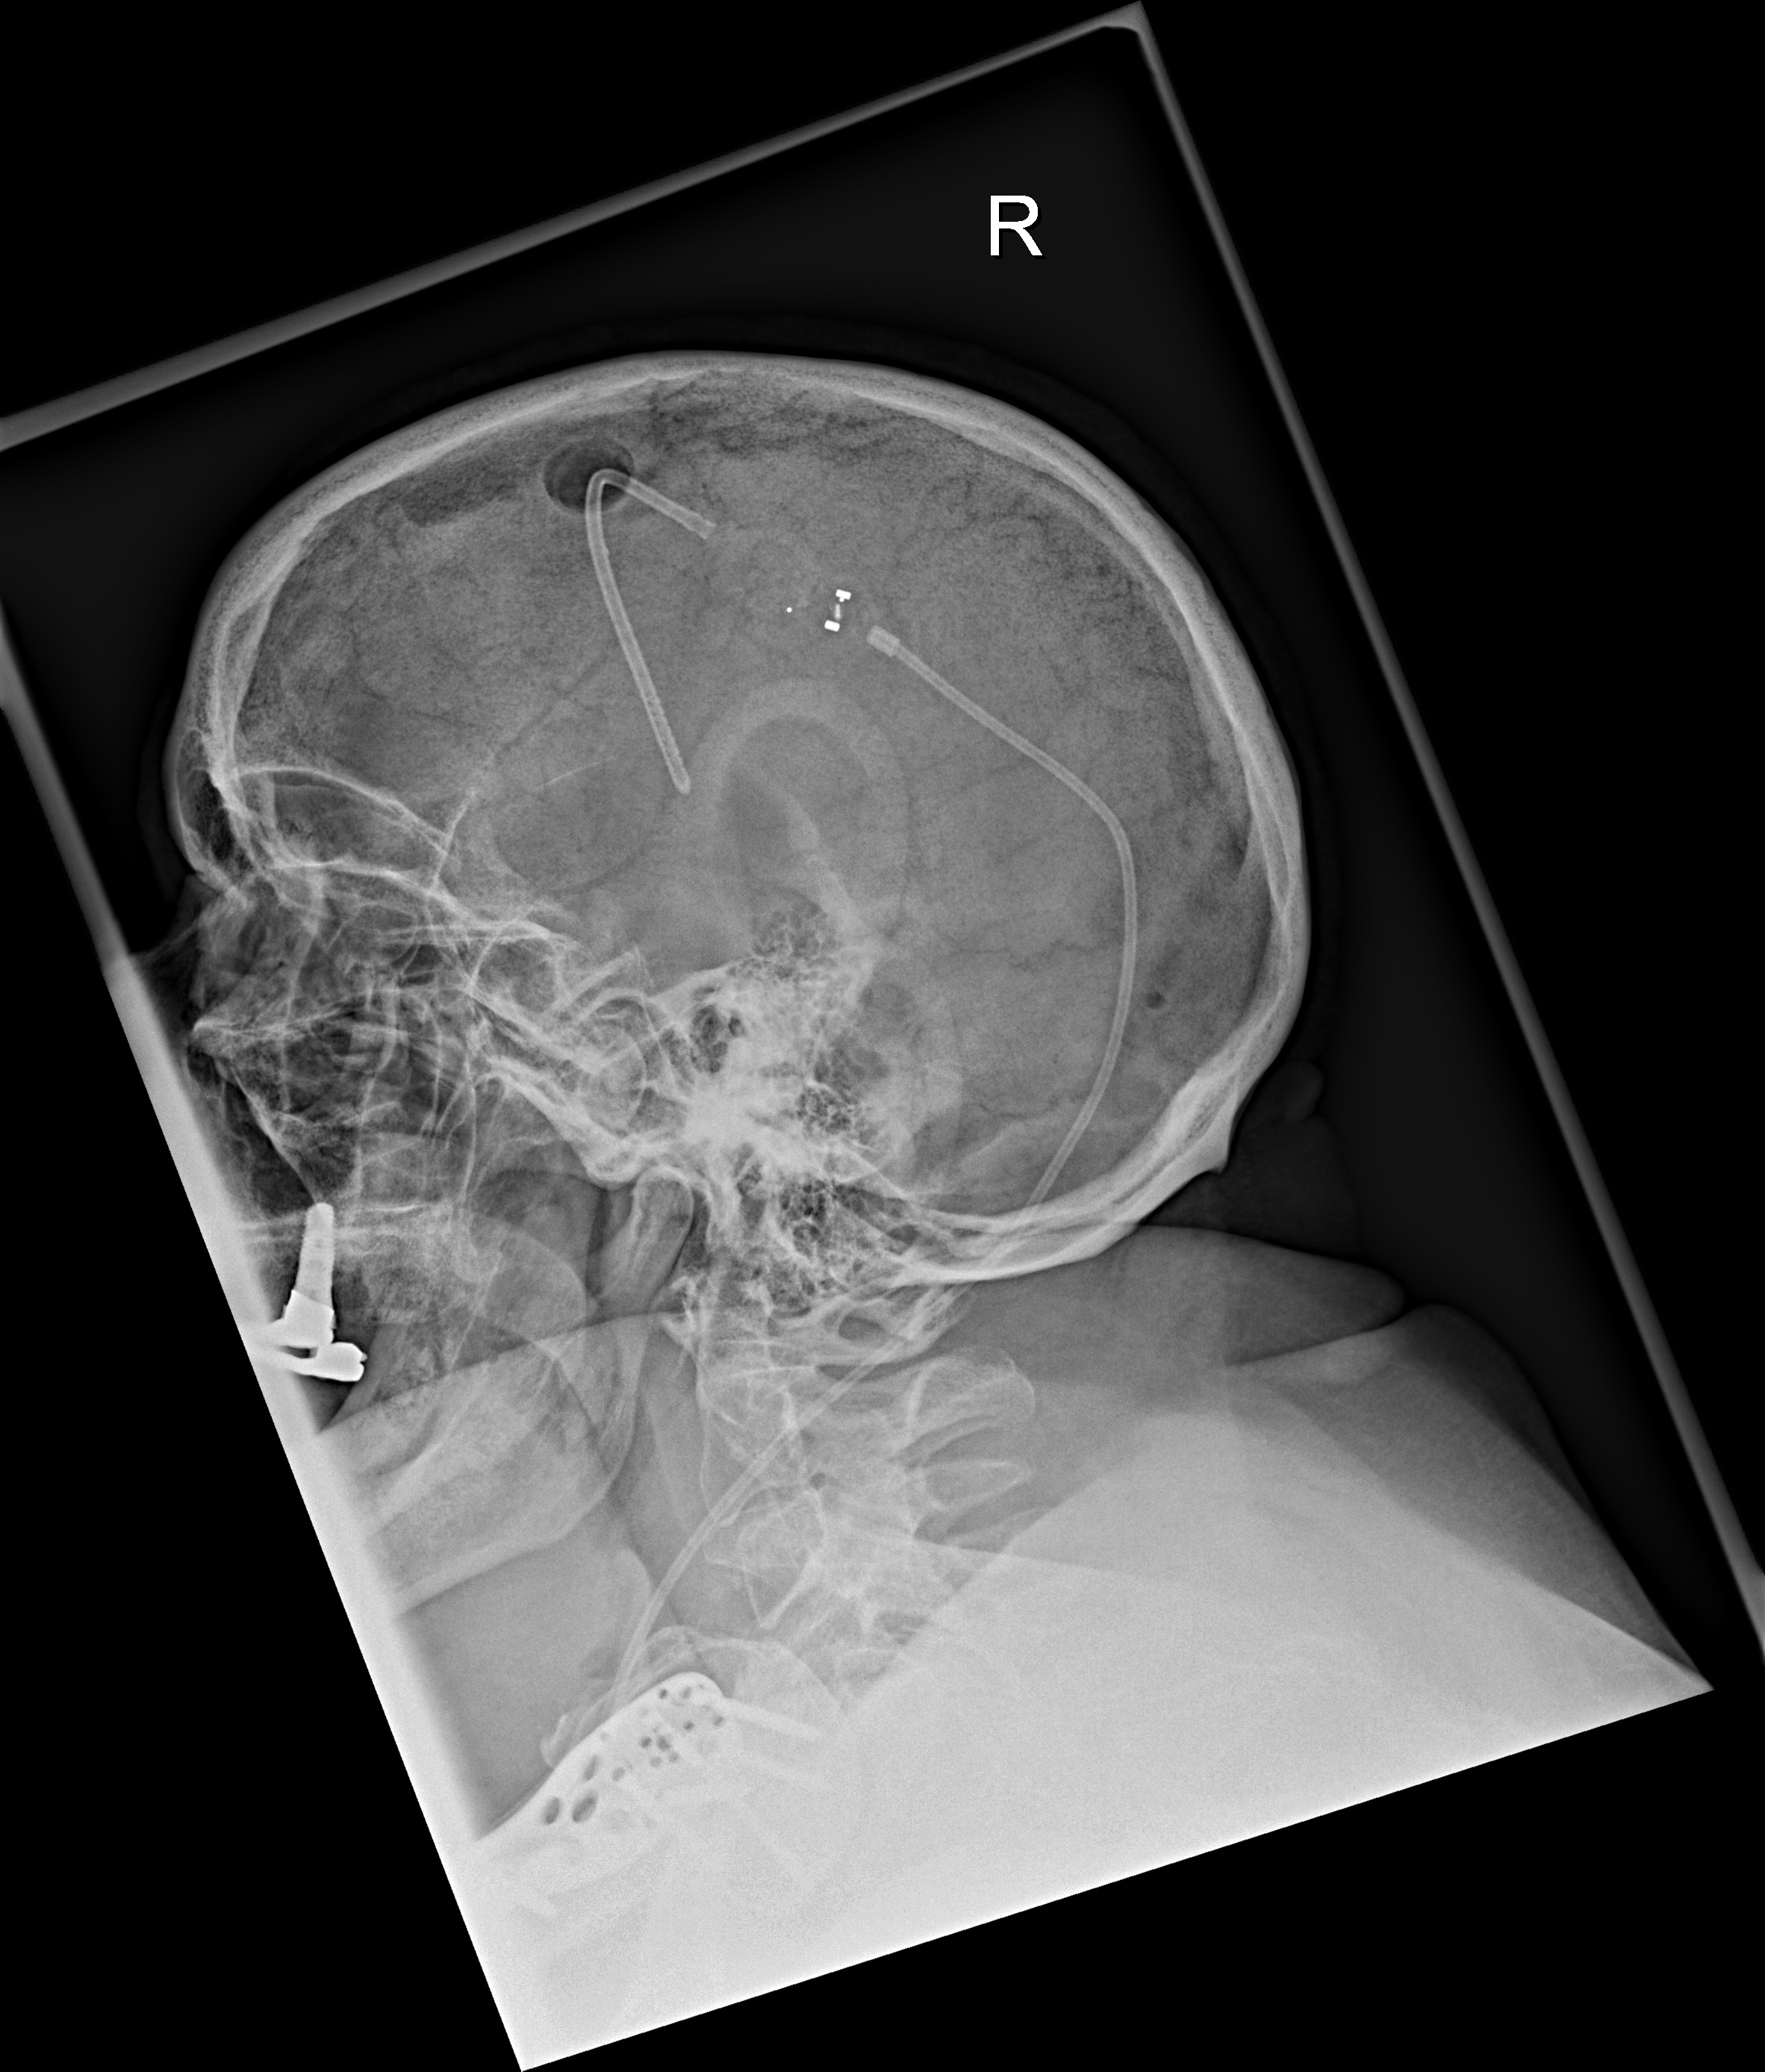Codman Certas: (770, 566, 879, 657)
